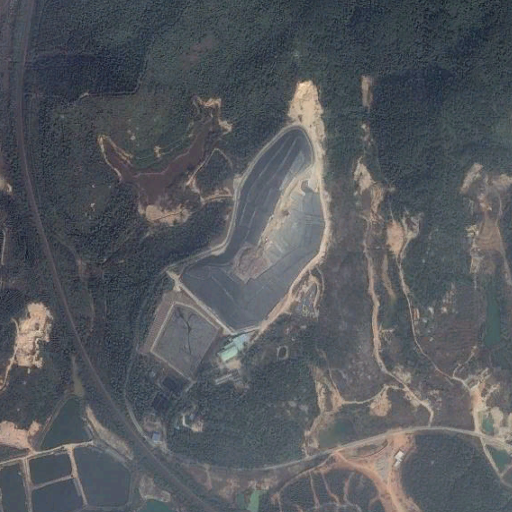lf: (181, 124, 325, 331)
